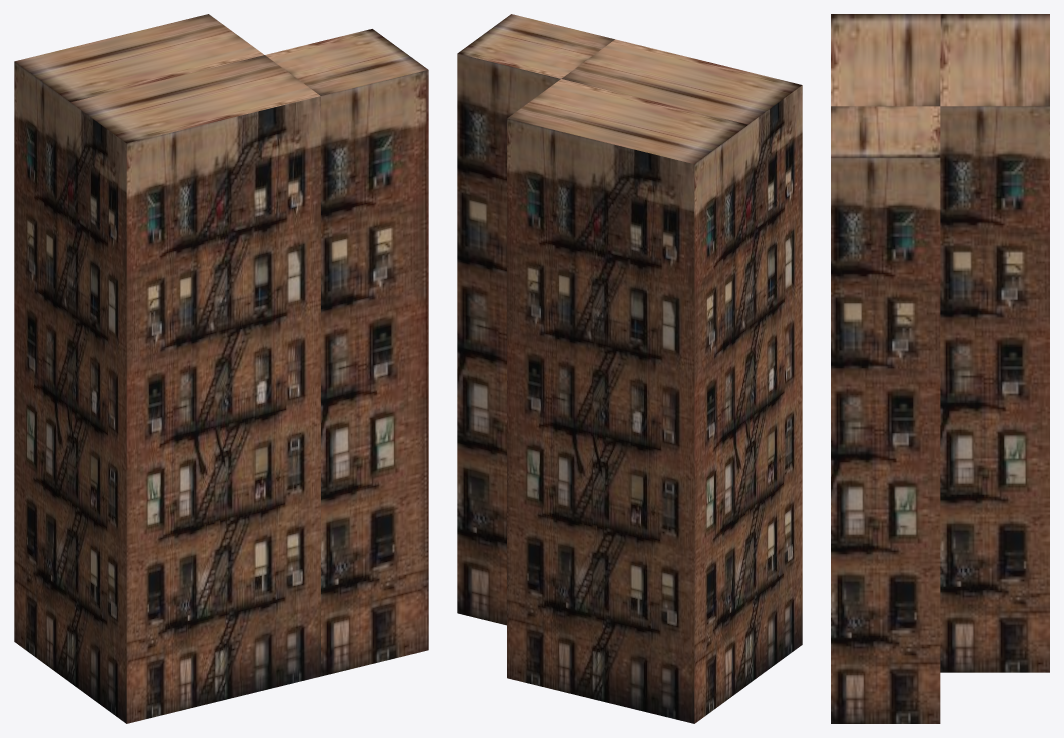
File: lic_walkup_6.glb
3 views of the same model, side by side, from view 1: azimuth 30°, elevation 25°; view 2: azimuth 150°, elevation 25°; view 3: azimuth 270°, elevation 25° (orthographic). The views are drawn at different scales.
Parts seen in each view (by area): view 1: building; view 2: building; view 3: building.
Boxes of the visible parts, x1,y1,x2,y2 form: building: (14,14,428,723); building: (457,14,802,723); building: (831,14,1049,723).
Bounding box in the file's own units: 11.43 × 21 × 7.35.
Materials: 1 (1 with a texture image).
